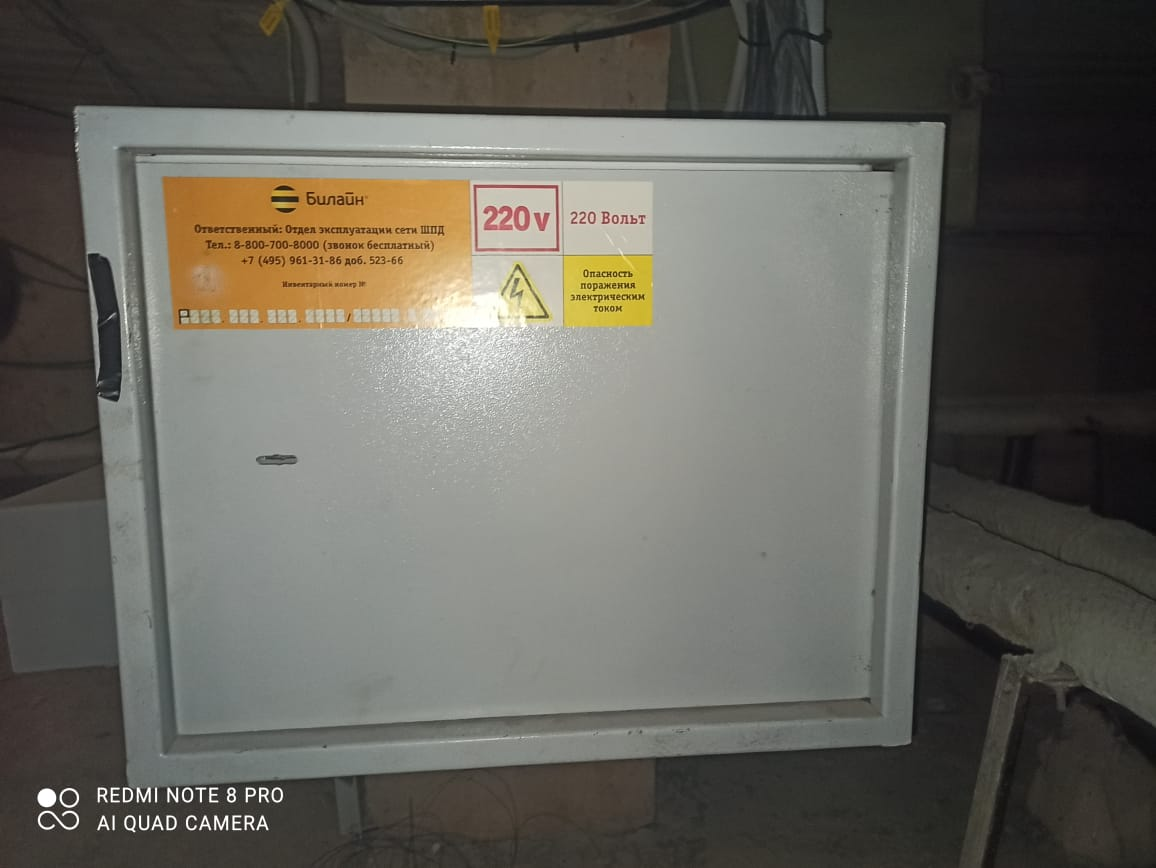shta-9m: (66, 99, 951, 792)
